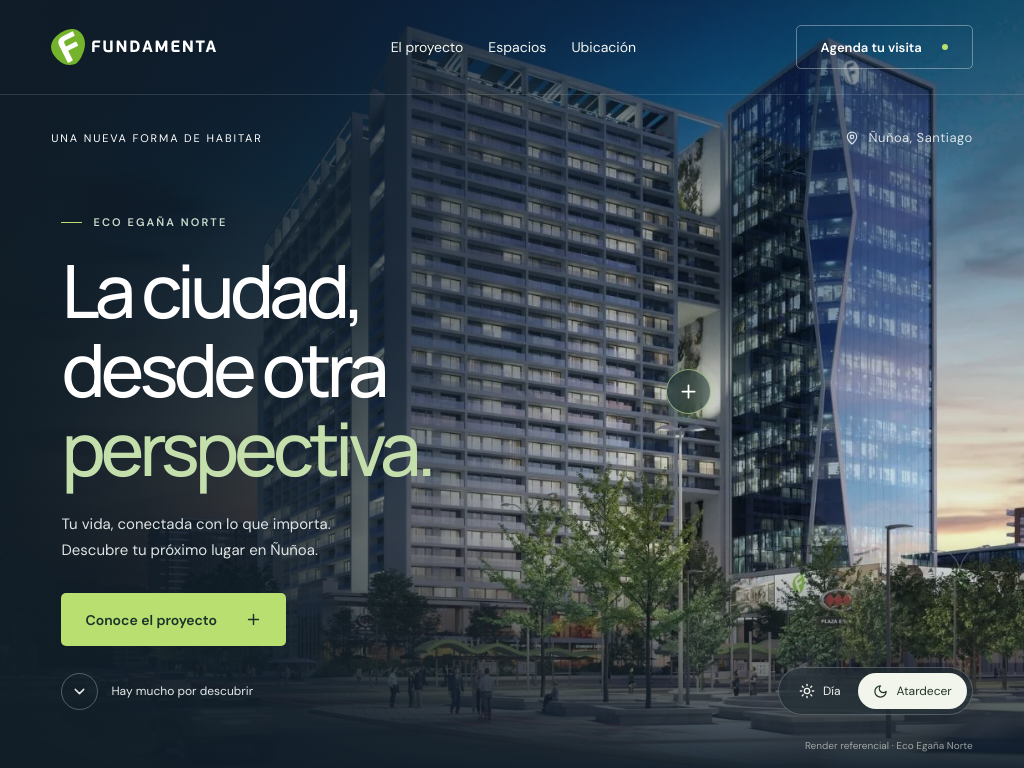
Recorrido de Fundamenta › permite cambiar la iluminación y navegar por los espacios con teclado
The image size is (1024, 768).
Step 1. Click the button "Día" → (820, 691), box [784,673,856,709]
(page scrolled)
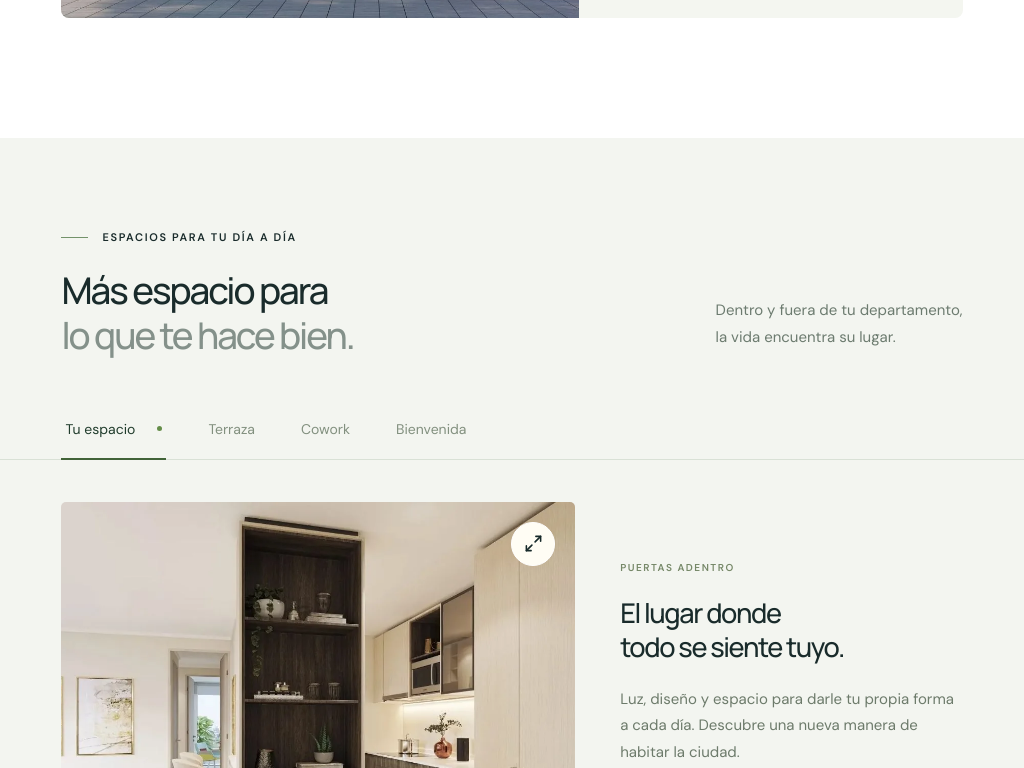
Step 2. Press ArrowRight in the tab "Tu espacio", box [61,404,166,460]
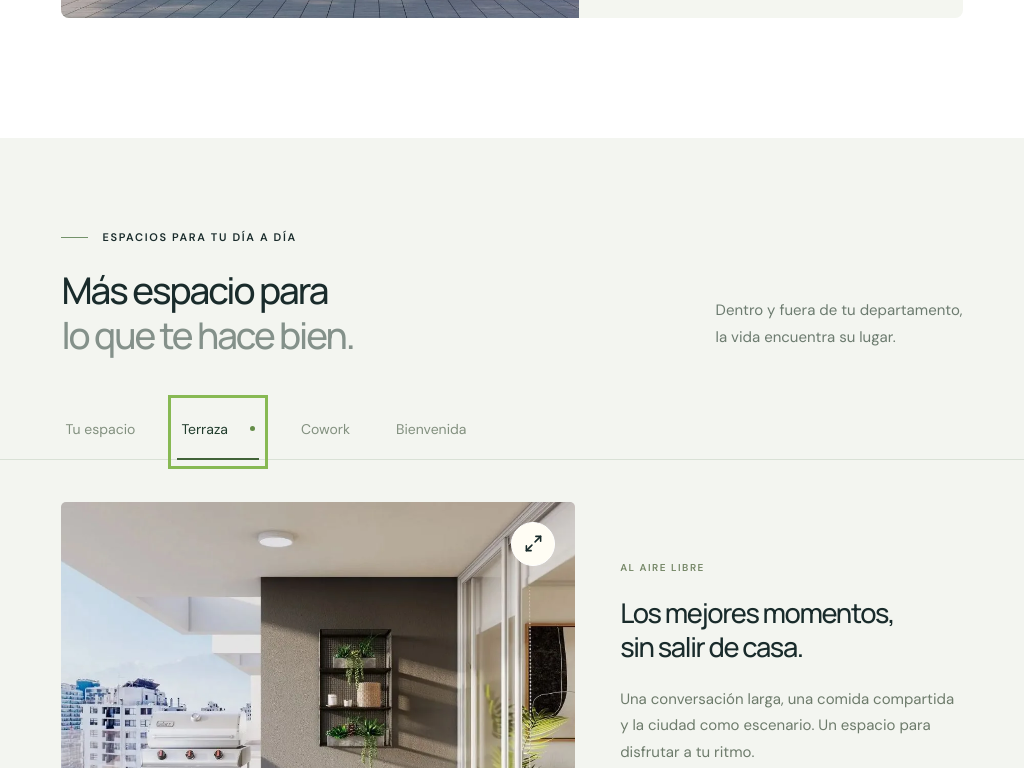
expect the panel shows "Los mejores momentos": met, box [620,594,894,665]
Step 3. Press End in the tab "Terraza", box [177,404,259,460]
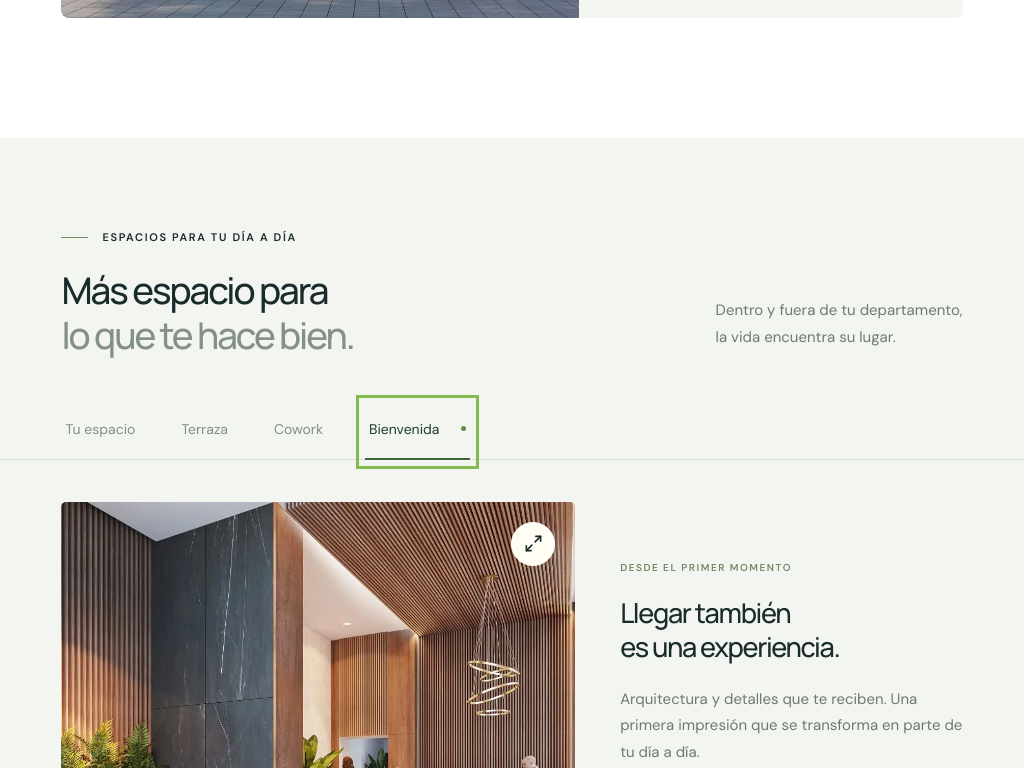
expect the tab "Bienvenida" is selected: met, box [365,404,470,460]
